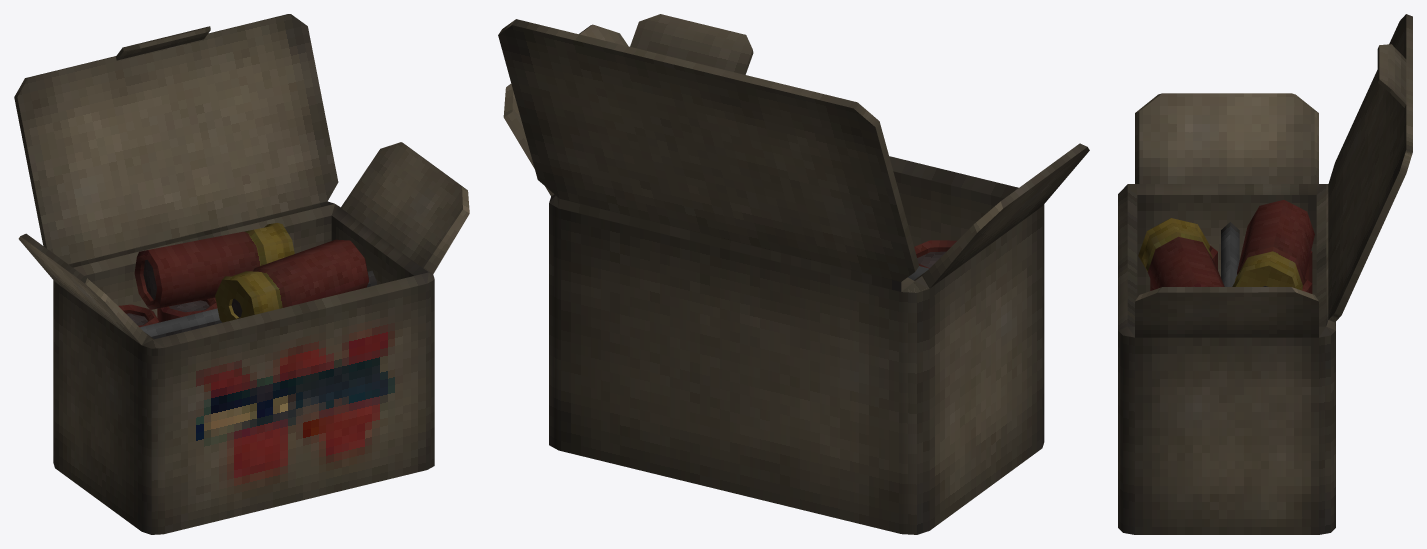
The model's file is shotgun_ammo_2.glb.
3 renders of one model, left to right at view 1: azimuth 30°, elevation 25°; view 2: azimuth 150°, elevation 25°; view 3: azimuth 270°, elevation 25°, orthographic. The views are drawn at different scales.
Visible parts, largest first — view 1: shotgun_ammo_2; view 2: shotgun_ammo_2; view 3: shotgun_ammo_2.
Boxes of the visible parts, x1,y1,x2,y2 form: shotgun_ammo_2: [14, 14, 469, 534]; shotgun_ammo_2: [498, 14, 1089, 534]; shotgun_ammo_2: [1118, 14, 1412, 534].
Bounding box in the file's own units: 0.2486 × 0.2328 × 0.1565.
1 material, 1 textured.
